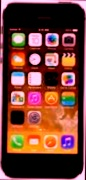iphone: (1, 4, 85, 180)
